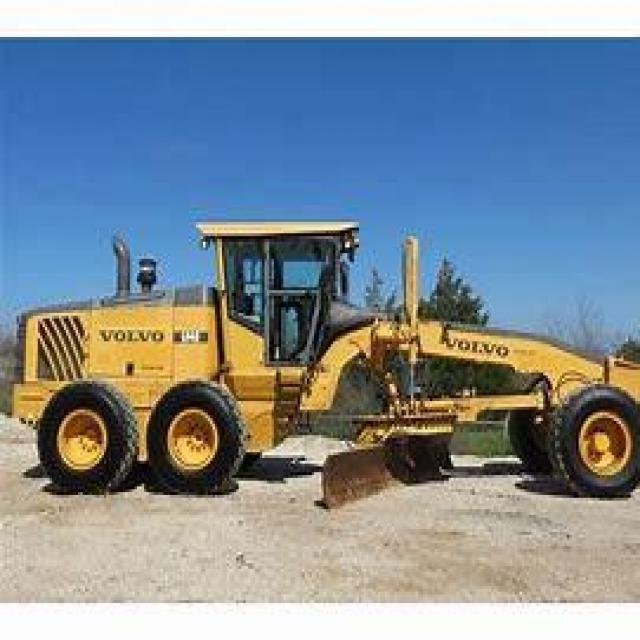Grader: (7, 210, 638, 512)
